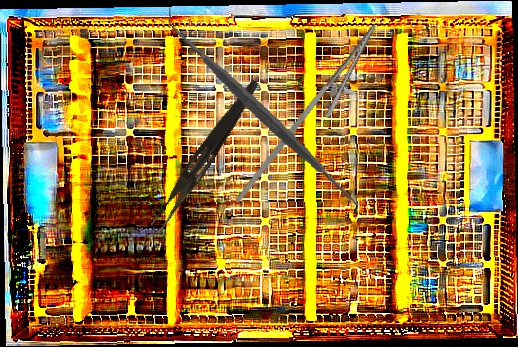Dressing Forceps: (149, 73, 262, 237)
Needle Holder: (234, 9, 392, 226)
Spatula Surgical: (154, 6, 371, 220)
